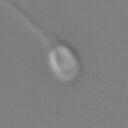normal: (1, 1, 55, 44)
